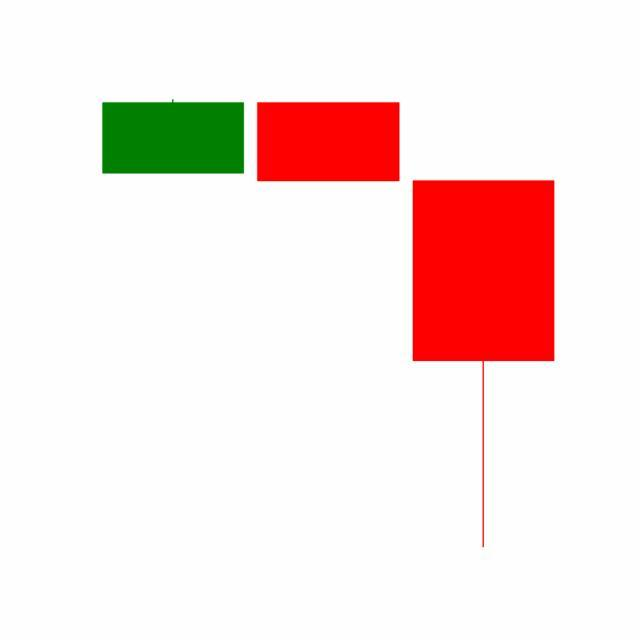Marubozu: (250, 101, 407, 183)
